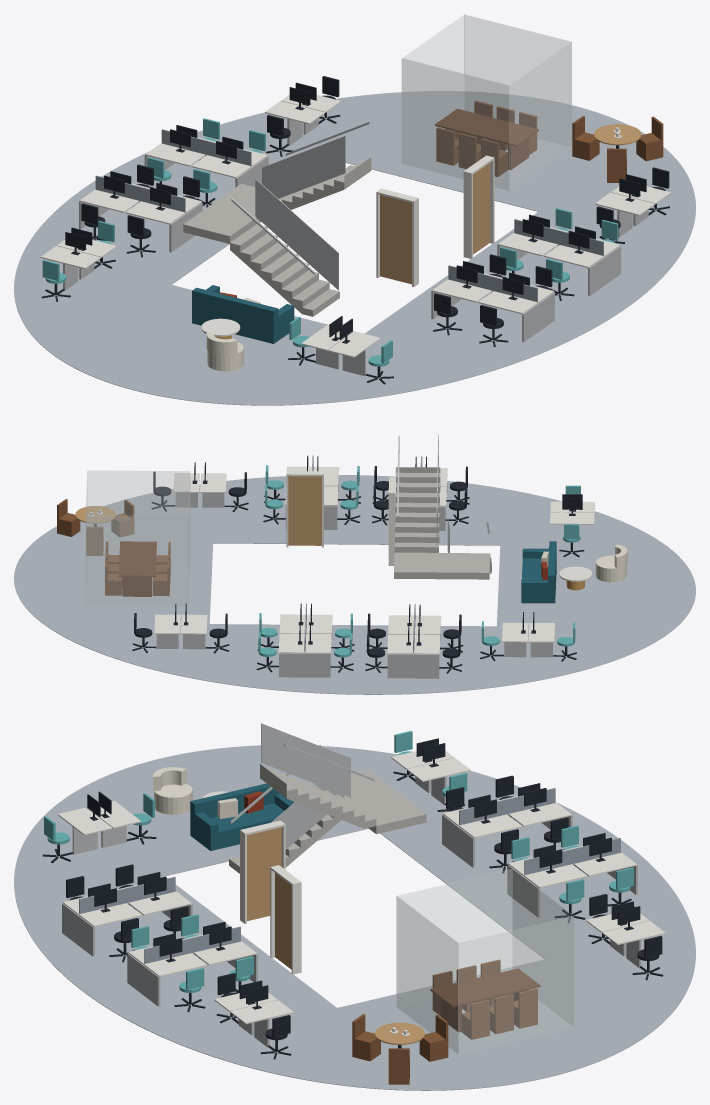
The picture shows the model from 3 angles, top to bottom: view 1: azimuth 30°, elevation 25°; view 2: azimuth 150°, elevation 25°; view 3: azimuth 270°, elevation 25°; orthographic projection. The views are drawn at different scales.
Visible parts, largest first — view 1: Floors, Furniture, Generic models, Stairs, Railings, Doors, Specialty equipment; view 2: Floors, Furniture, Generic models, Stairs, Doors, Specialty equipment, Railings; view 3: Floors, Furniture, Generic models, Doors, Specialty equipment, Stairs, Railings.
Boxes of the visible parts, box(x1,y1,x2,y2) form: Floors: box(14, 91, 695, 405); Furniture: box(40, 76, 670, 384); Generic models: box(401, 14, 571, 190); Stairs: box(183, 157, 371, 316); Railings: box(231, 121, 369, 290); Doors: box(376, 155, 494, 286); Specialty equipment: box(65, 82, 646, 343); Floors: box(14, 475, 695, 694); Furniture: box(57, 455, 627, 678); Generic models: box(85, 470, 190, 605); Stairs: box(394, 467, 491, 579); Doors: box(286, 471, 395, 565); Specialty equipment: box(173, 455, 582, 645); Railings: box(397, 434, 489, 552); Floors: box(14, 745, 695, 1090); Furniture: box(42, 731, 665, 1084); Generic models: box(396, 869, 574, 1054); Doors: box(240, 820, 301, 974); Specialty equipment: box(87, 738, 640, 1009); Stairs: box(229, 764, 426, 873); Railings: box(230, 723, 374, 849).
Bounding box in the file's own units: 17.88 × 4.03 × 14.92.
